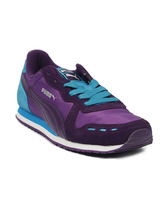shoes: (13, 46, 158, 156)
